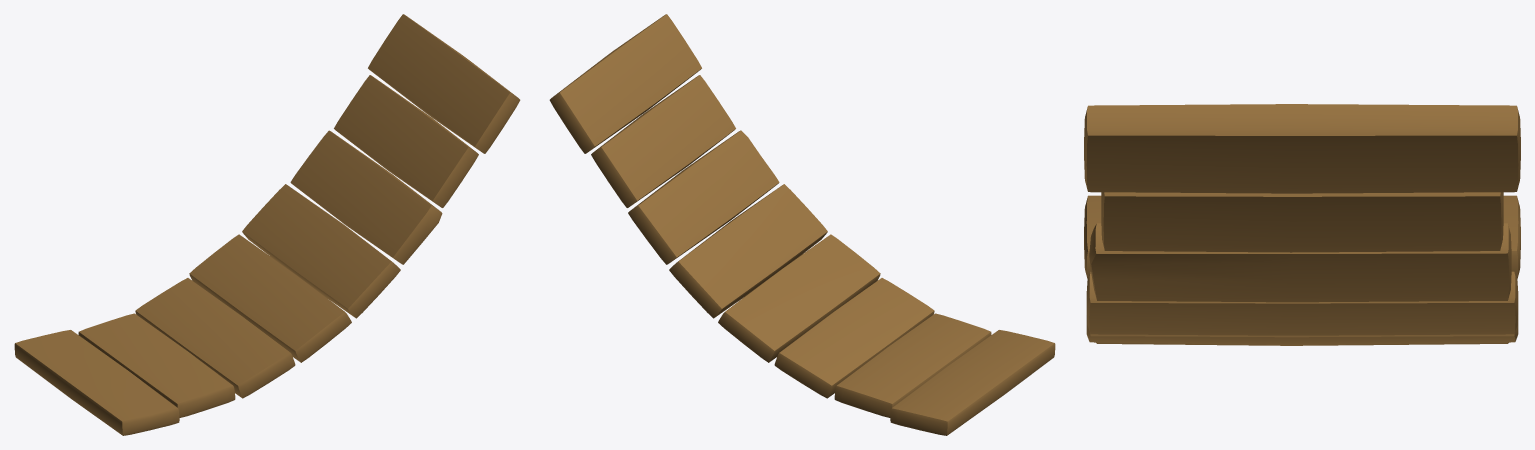
Rendered from Ramp.glb.
The picture shows the model from 3 angles, left to right: view 1: azimuth 30°, elevation 25°; view 2: azimuth 150°, elevation 25°; view 3: azimuth 270°, elevation 25°; orthographic projection. The views are drawn at different scales.
Visible parts, largest first — view 1: Bridge_Small; view 2: Bridge_Small; view 3: Bridge_Small.
Part boxes in pixels (x1,y1,x2,y2): Bridge_Small: (14, 14, 520, 435); Bridge_Small: (549, 14, 1055, 435); Bridge_Small: (1084, 104, 1520, 345).
Size of the model in its own units: 5.59 by 3.36 by 2.64.
